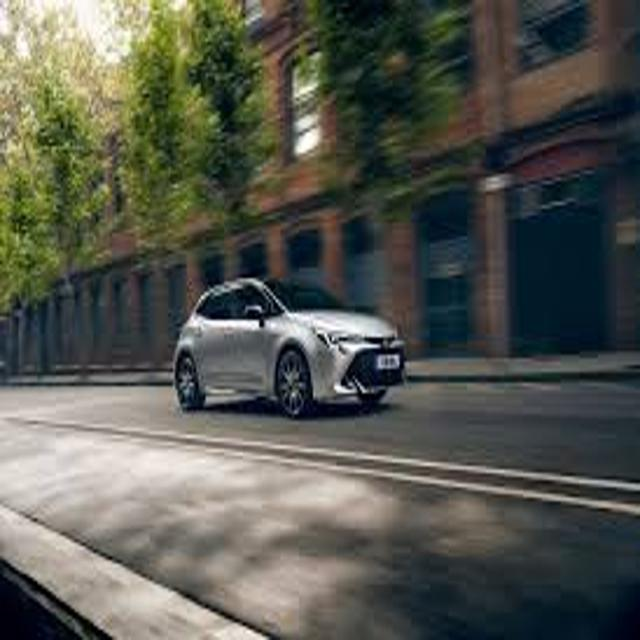car: (173, 276, 406, 418)
